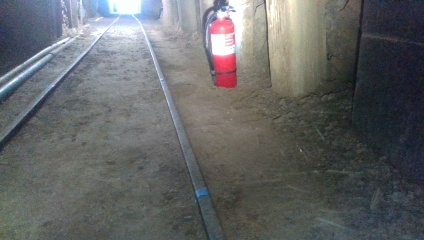fire_extinguisher: (204, 0, 237, 87)
